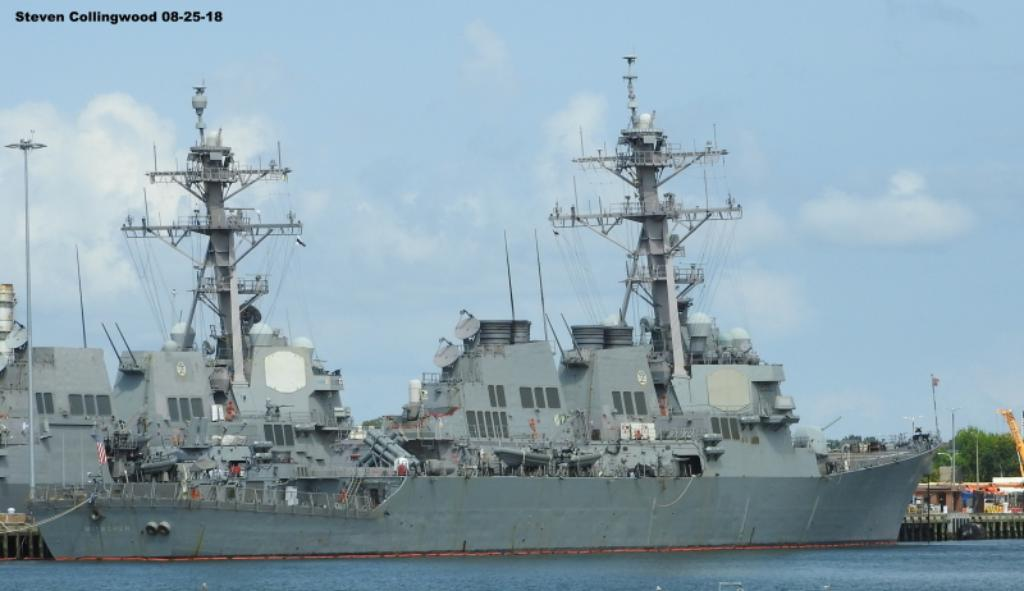Warship: (28, 51, 942, 561)
